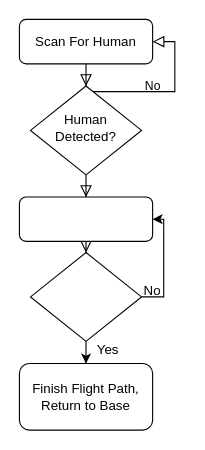
Image size: 205x450. Some labels were removed from this diagram. Each missing label, with the centre of its shape:
"Continue Flight Path?" goes at point (85, 296).
"Send Stop CMD to PIxhawk, GPS to User" goes at point (85, 218).
